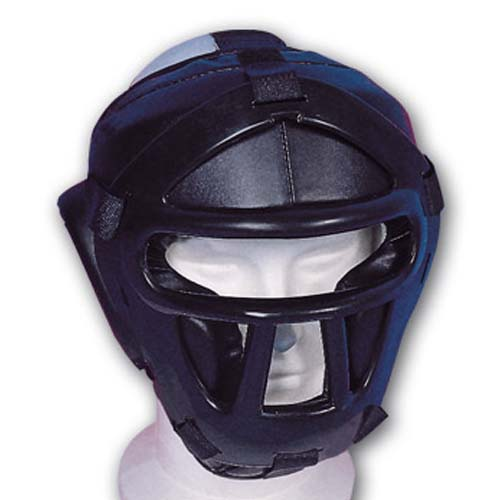helmet: (81, 43, 423, 420)
